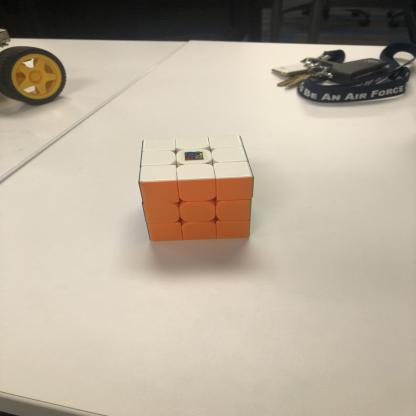SolvedCube: (115, 127, 268, 258)
